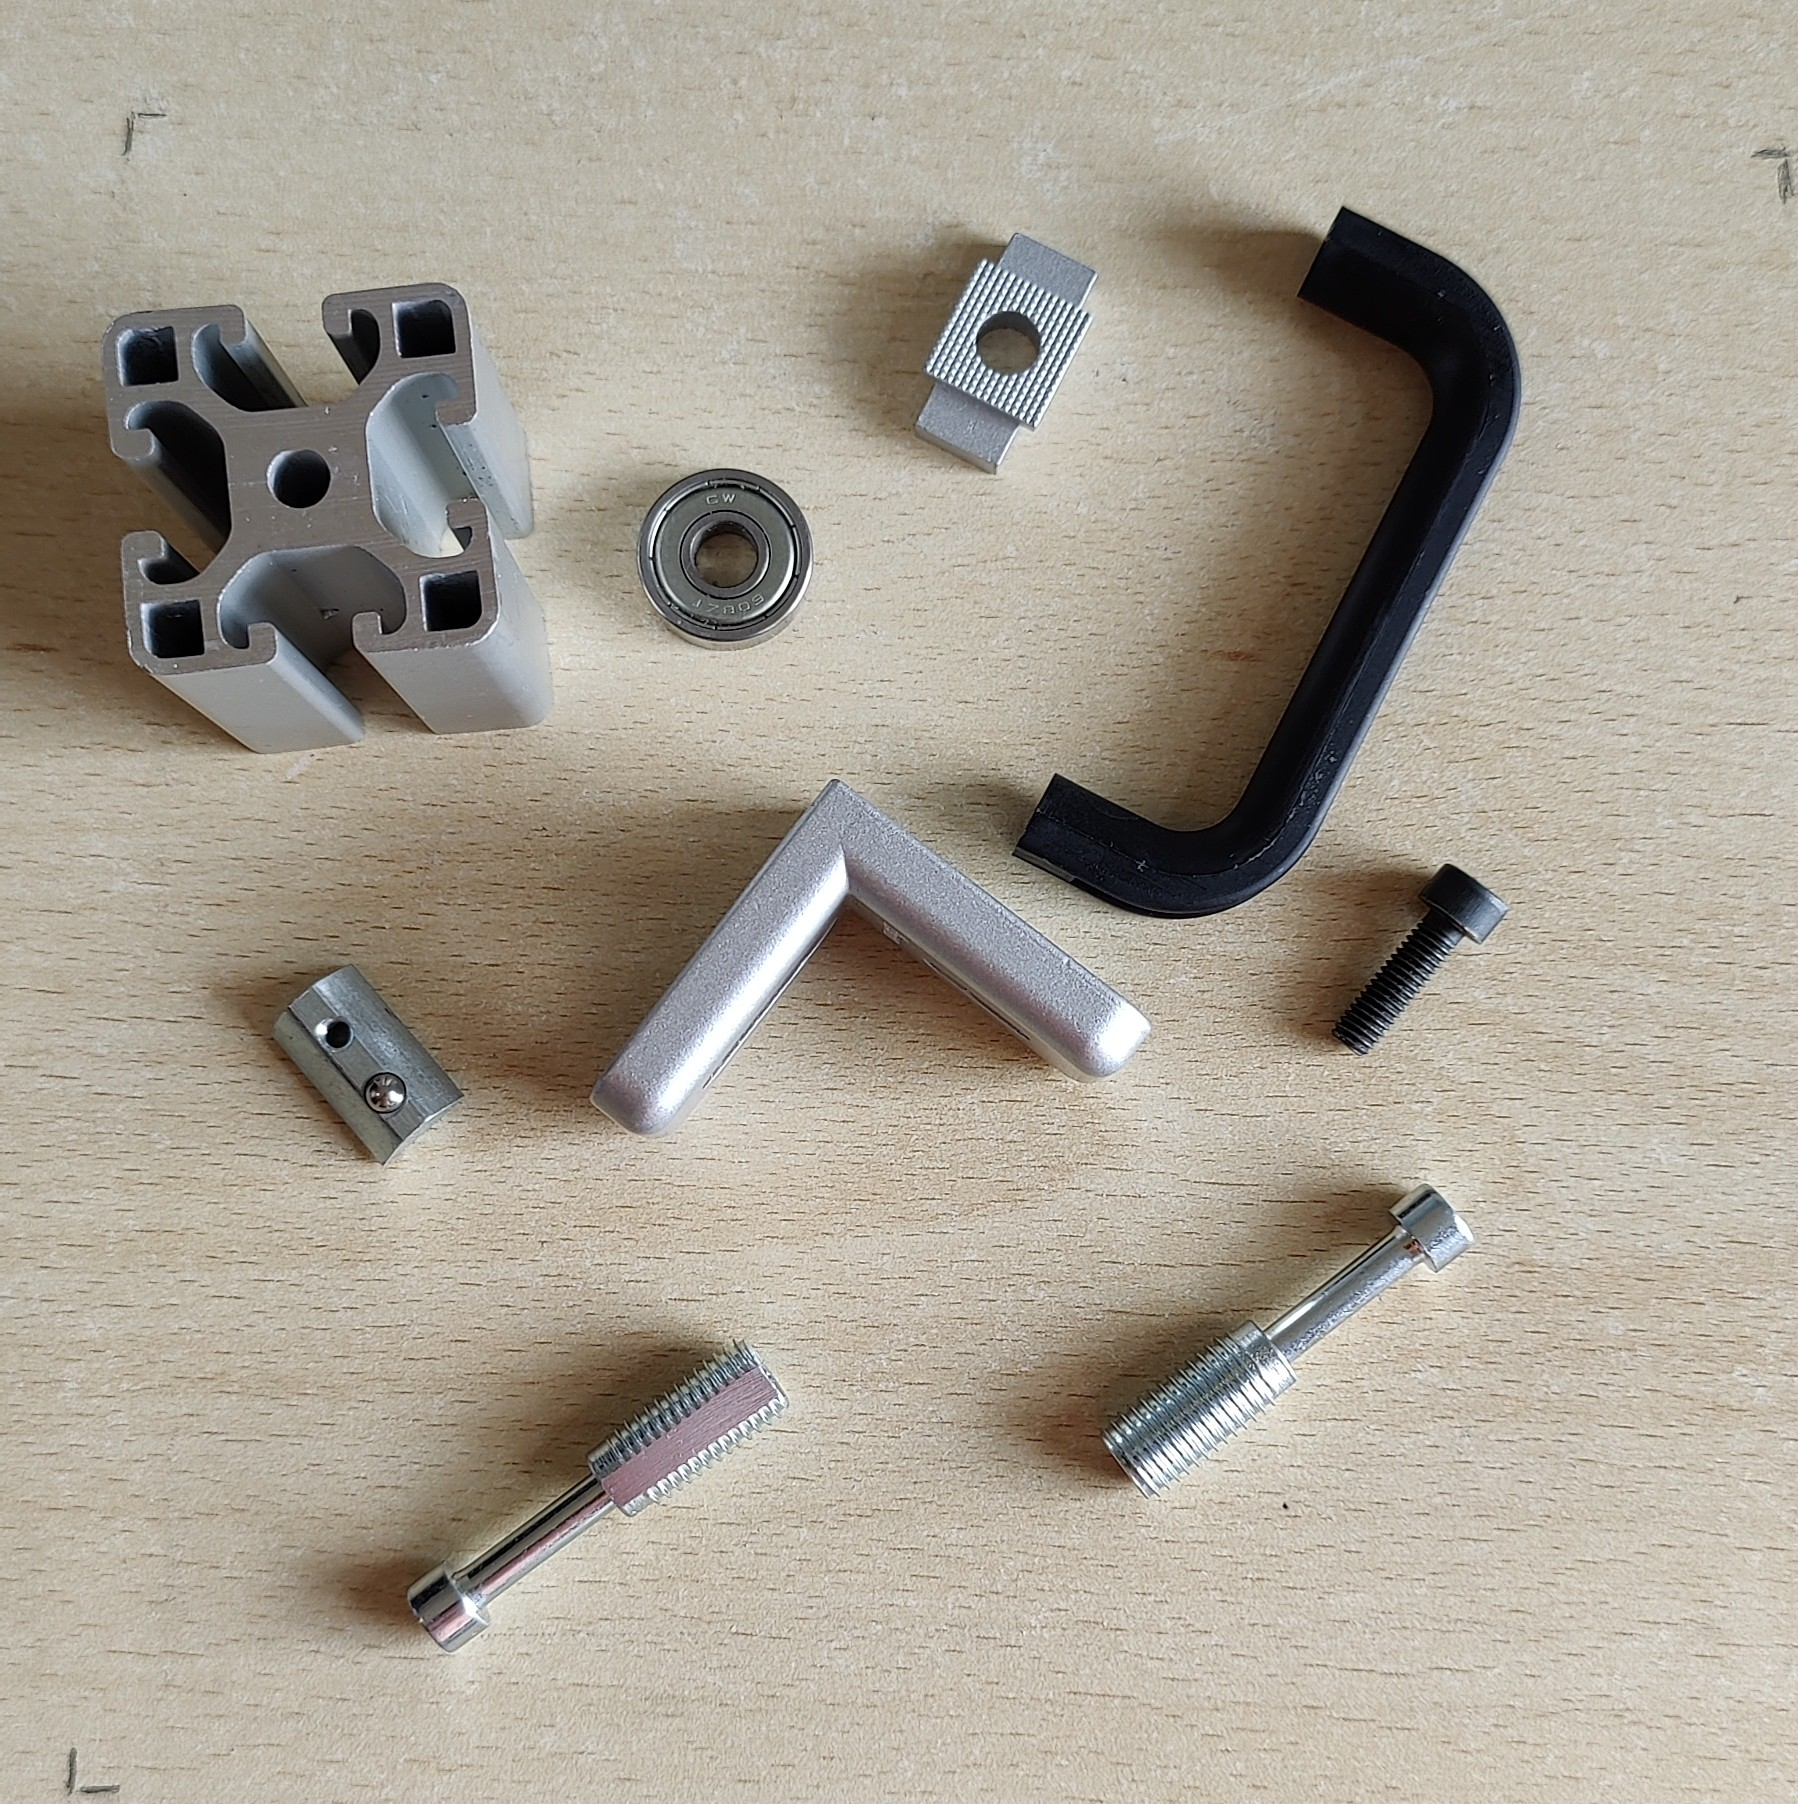Aluminium Extension: (102, 275, 552, 756)
Ball Bearing: (632, 464, 815, 653)
Multiwinkel: (585, 775, 1154, 1141)
Pull Handle: (1009, 196, 1526, 922)
Shoulder Socket Head Cap Screw: (403, 1333, 794, 1654), (1097, 1182, 1479, 1499)
Socket Head Cap Screw: (1329, 858, 1515, 1060)
T Nut Square: (911, 230, 1102, 477)
T Spring Nut: (267, 960, 469, 1170)
